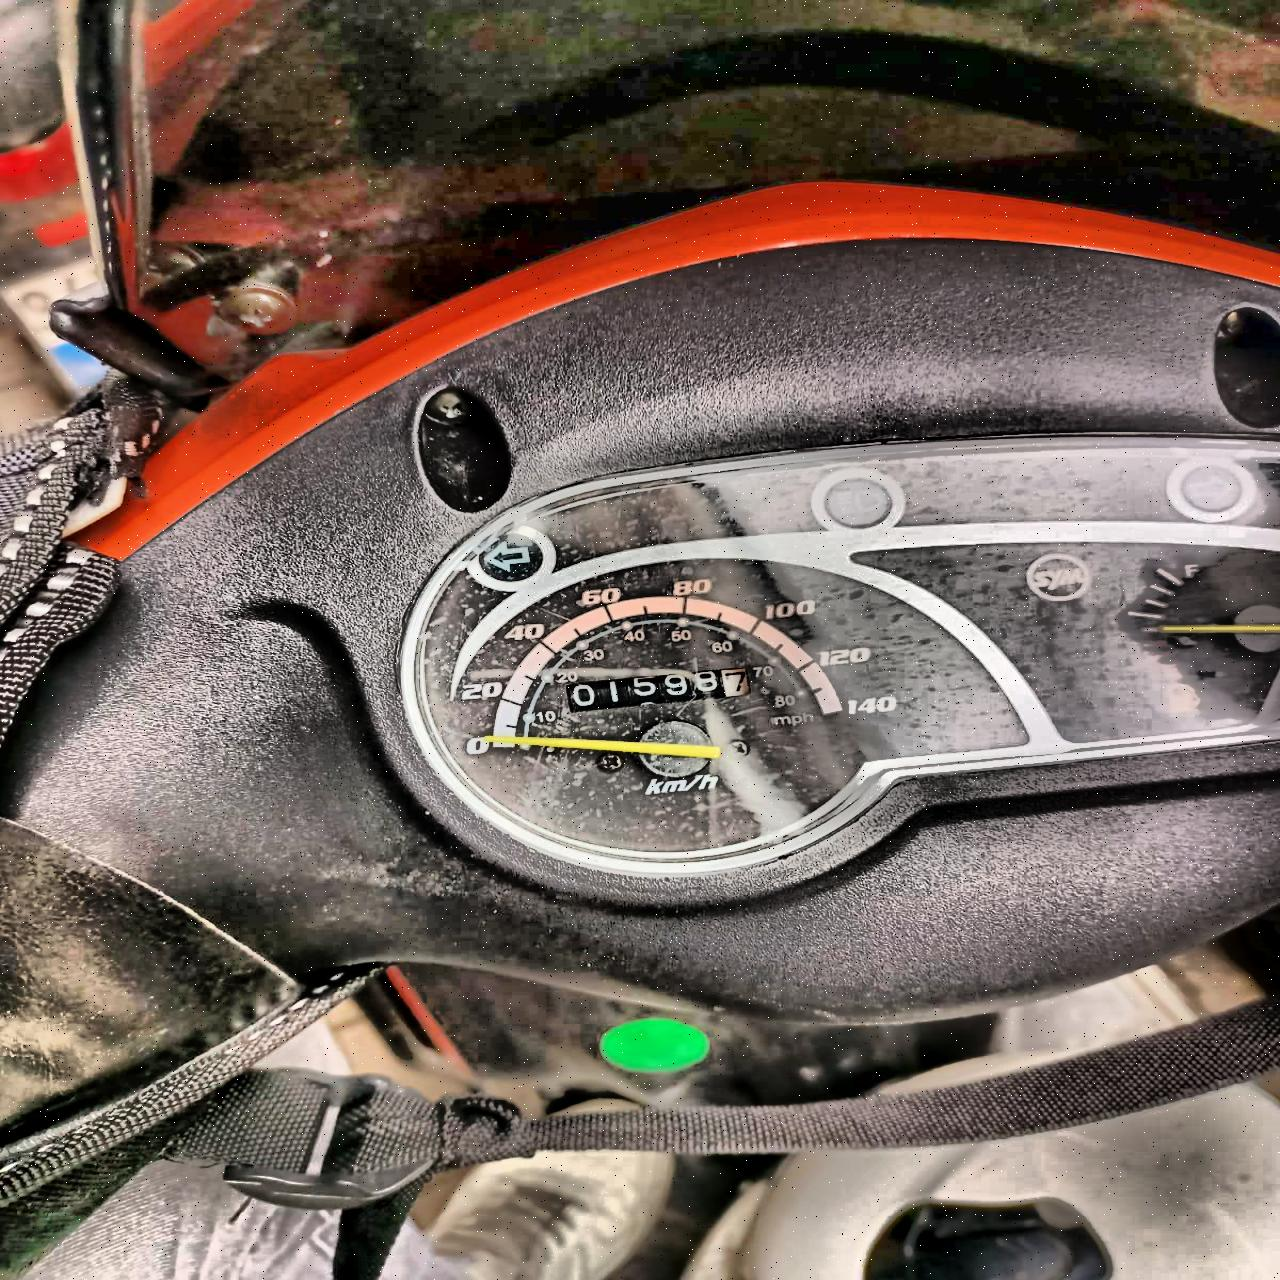0: (570, 683, 597, 708), (567, 669, 578, 680)
1: (607, 676, 621, 710)
2: (557, 670, 566, 683)
5: (629, 673, 658, 697)
7: (721, 669, 747, 695)
8: (693, 668, 717, 694)
9: (661, 672, 688, 697)
odometer: (557, 663, 754, 715)
